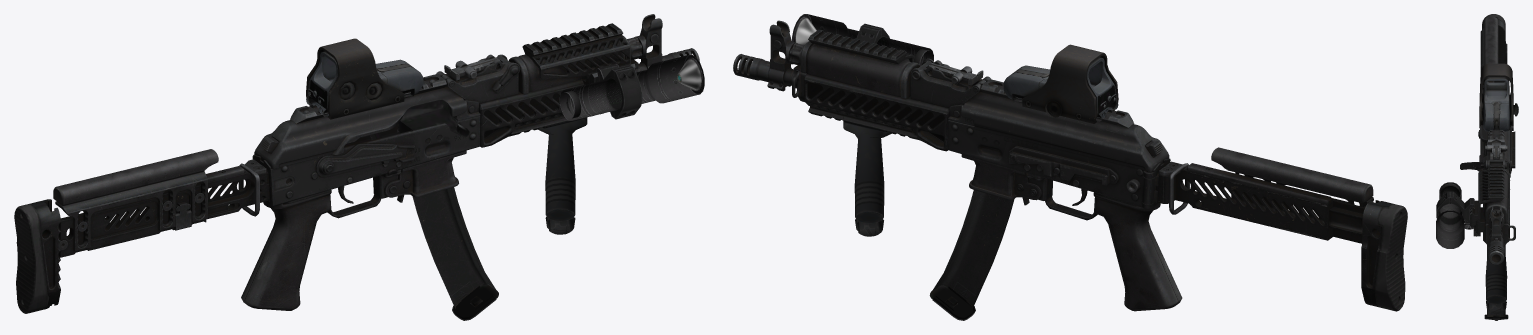
3 views of the same model, side by side, from view 1: azimuth 30°, elevation 25°; view 2: azimuth 150°, elevation 25°; view 3: azimuth 270°, elevation 25° (orthographic). The views are drawn at different scales.
Parts seen in each view (by area): view 1: Body, Holo, Flashlight, Mag, Grip, Reciever; view 2: Body, Holo, Mag, Grip, Flashlight; view 3: Body, Holo, Flashlight, Grip, Mag, Reciever.
Boxes of the visible parts, x1,y1,x2,y2 form: Body: (14,14,699,313); Holo: (306,38,423,119); Flashlight: (559,55,704,120); Mag: (397,128,498,320); Grip: (538,116,587,234); Reciever: (361,100,469,139); Body: (733,20,1407,311); Holo: (1003,44,1118,123); Mag: (929,190,1014,320); Grip: (843,116,891,236); Flashlight: (792,14,933,66); Body: (1470,14,1515,265); Holo: (1479,63,1518,131); Flashlight: (1436,182,1474,248); Grip: (1485,246,1507,313); Mag: (1484,245,1508,320); Reciever: (1460,143,1487,169).
Bounding box in the file's own units: 14.24 × 6 × 2.13.
Materials: 6 (6 with a texture image).
